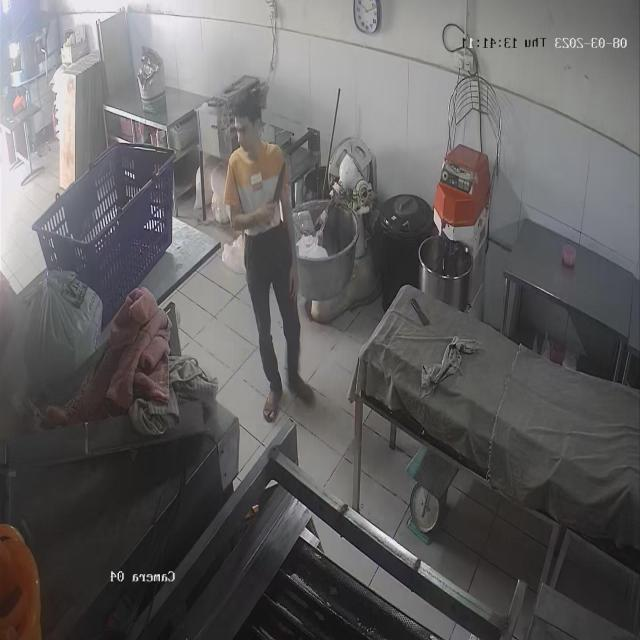Knife: (269, 157, 295, 216)
